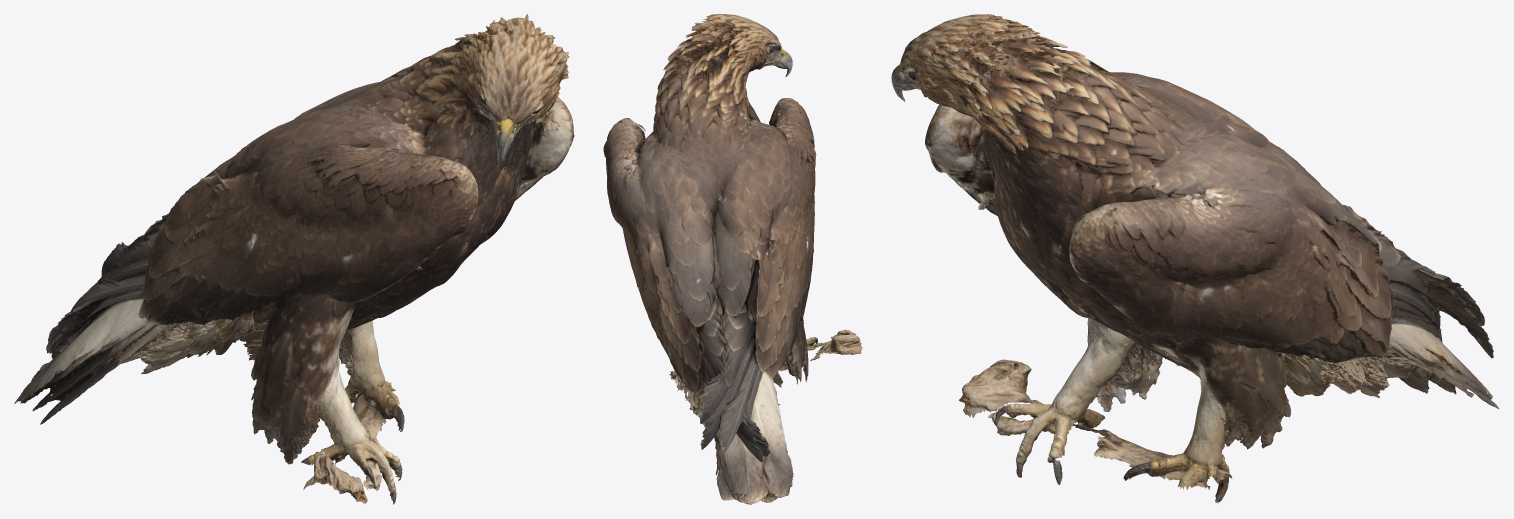
File: eagle.glb
3 views of the same model, side by side, from view 1: azimuth 30°, elevation 25°; view 2: azimuth 150°, elevation 25°; view 3: azimuth 270°, elevation 25° (orthographic). The views are drawn at different scales.
Visible parts, largest first — view 1: eagle_clean; view 2: eagle_clean; view 3: eagle_clean.
Part boxes in pixels (x1,y1,x2,y2): eagle_clean: (14,14,574,504); eagle_clean: (603,14,862,504); eagle_clean: (891,14,1499,503).
Size of the model in its own units: 0.757 by 0.8563 by 0.8955.
1 material, 1 textured.
